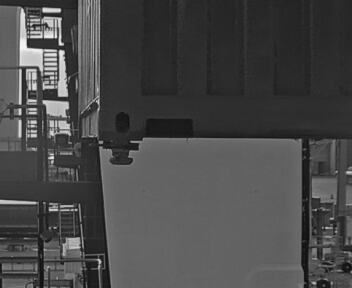twist_lock_1: (96, 134, 144, 175)
